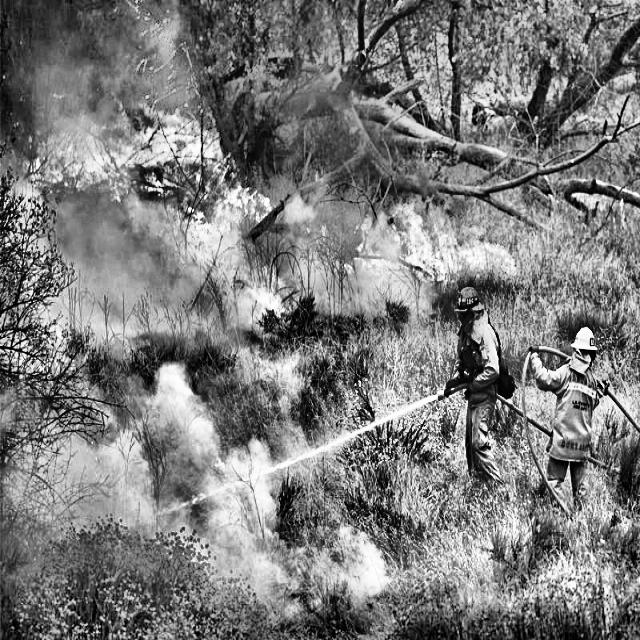fire: (28, 80, 288, 234), (376, 167, 560, 328)
